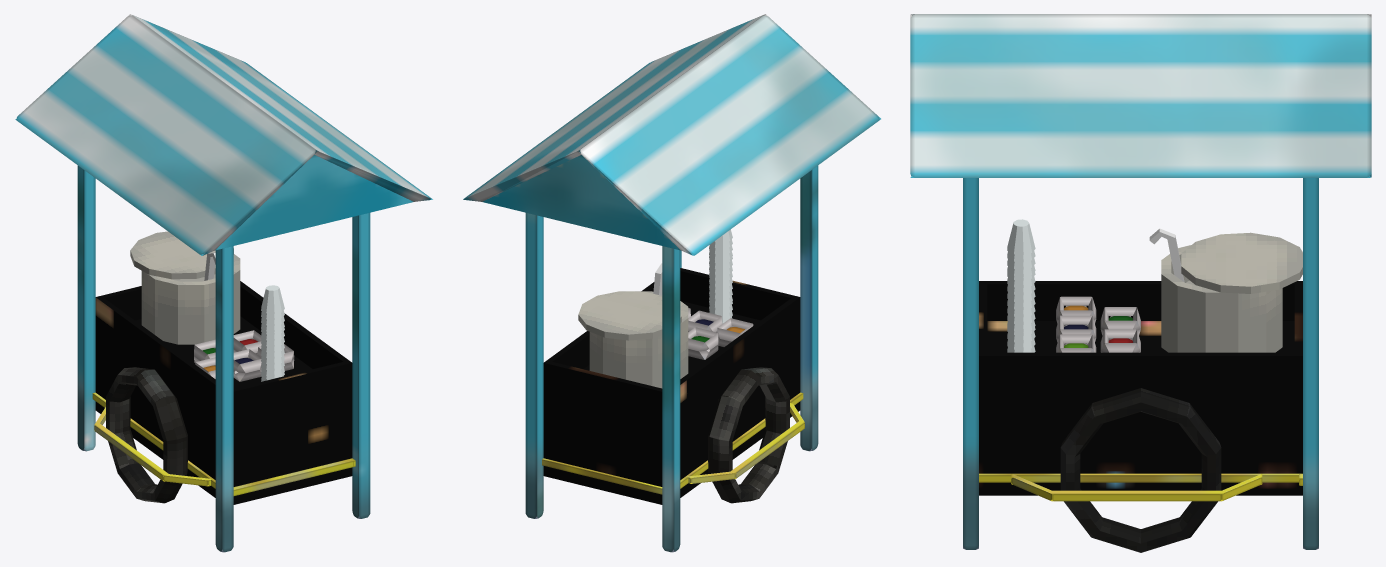
The model's file is puestoelotes.fbx.
The picture shows the model from 3 angles, left to right: view 1: azimuth 30°, elevation 25°; view 2: azimuth 150°, elevation 25°; view 3: azimuth 270°, elevation 25°; orthographic projection. The views are drawn at different scales.
Parts seen in each view (by area): view 1: mesh_2, base, mesh_3, torus_1, holla, mesh, tapa, tube, beveled_cuboid_1, beveled_cuboid; view 2: mesh_2, base, mesh_3, torus_1, holla, tapa, mesh, tube, beveled_cuboid_3, beveled_cuboid_2, beveled_cuboid_1; view 3: mesh_2, base, mesh_3, torus, holla, tapa, mesh, tube, beveled_cuboid_3, beveled_cuboid, beveled_cuboid_1, beveled_cuboid_2 (+2 smaller).
Boxes of the visible parts, x1,y1,x2,y2 form: mesh_2: (15, 14, 432, 255); base: (95, 281, 352, 504); mesh_3: (77, 165, 370, 552); torus_1: (106, 367, 187, 503); holla: (141, 254, 240, 344); mesh: (92, 392, 355, 495); tapa: (130, 231, 233, 281); tube: (261, 285, 284, 381); beveled_cuboid_1: (233, 349, 261, 381); beveled_cuboid: (233, 330, 261, 354); mesh_2: (463, 14, 880, 255); base: (543, 268, 800, 504); mesh_3: (525, 165, 818, 552); torus_1: (708, 367, 789, 503); holla: (589, 291, 688, 388); tapa: (578, 291, 681, 340); mesh: (542, 392, 804, 494); tube: (709, 229, 732, 323); beveled_cuboid_3: (688, 327, 718, 359); beveled_cuboid_2: (717, 318, 753, 346); beveled_cuboid_1: (688, 310, 722, 332); mesh_2: (910, 14, 1371, 177); base: (979, 281, 1302, 495); mesh_3: (963, 178, 1318, 549); torus: (1060, 388, 1221, 552); holla: (1161, 245, 1282, 352); tapa: (1181, 232, 1302, 293); mesh: (979, 473, 1302, 501); tube: (1007, 219, 1035, 352); beveled_cuboid_3: (1100, 307, 1140, 340); beveled_cuboid: (1100, 329, 1140, 352); beveled_cuboid_1: (1056, 315, 1096, 345); beveled_cuboid_2: (1056, 296, 1096, 326).
Size of the model in its own units: 50.82 by 83.75 by 71.25.
